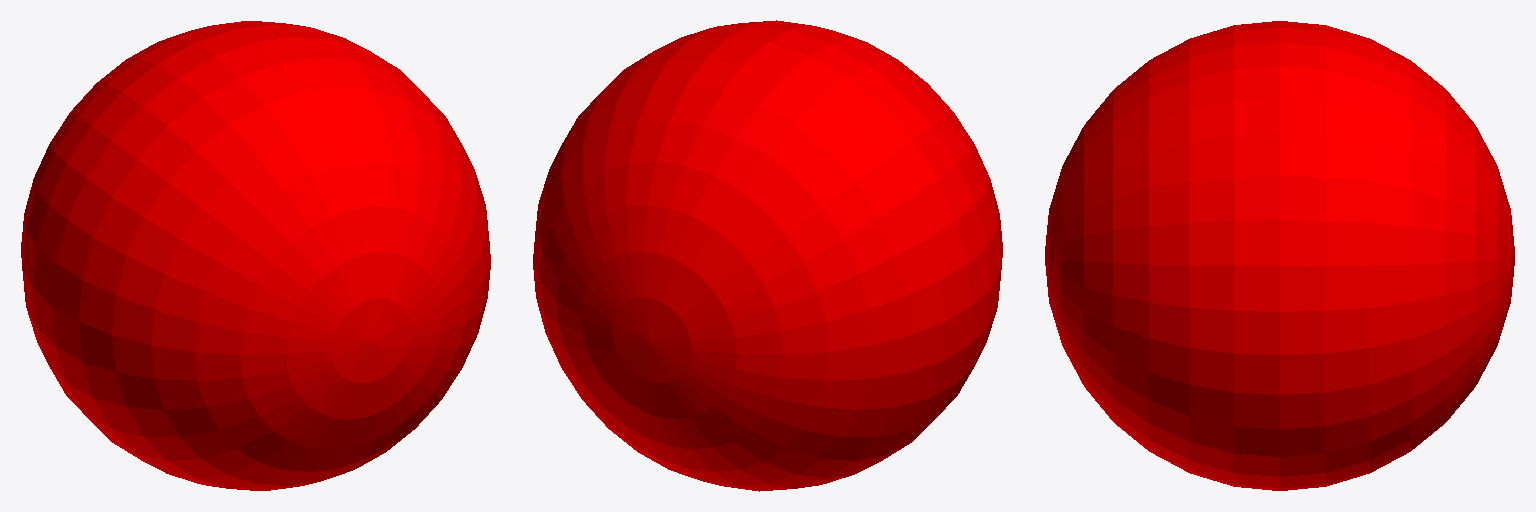
URDF robot description (k-bot_sim):
<?xml version="1.0" ?>
<robot name="k-bot_sim">
  <link name="floating_base_link">
    <visual name="floating_base_link_visual">
      <geometry name="floating_base_link_geometry">
        <sphere radius="0.01"/>
      </geometry>
      <material name="floating_base_link_material">
        <color rgba="1 0 0 1"/>
      </material>
      <origin xyz="0 0 0" rpy="1.57 0.00 3.14"/>
    </visual>
    <inertial name="floating_base_link_inertial">
      <mass value="0.001"/>
      <inertia ixx="0.000001" iyy="0.000001" izz="0.000002" ixy="0" ixz="0" iyz="0"/>
      <origin xyz="0 0 0" rpy="1.57 0.00 3.14"/>
    </inertial>
  </link>
  <joint name="floating_base_joint" type="fixed">
    <parent link="floating_base_link"/>
    <child link="body1_part"/>
    <origin xyz="0 0 0" rpy="1.57 0.00 3.14"/>
  </joint>
  <joint name="imu_link" type="fixed">
    <origin xyz="0.039989 -0.127910 0" rpy="-1.570796 0 0"/>
    <parent link="body1_part"/>
    <child link="imu"/>
  </joint>
  <joint name="left_shoulder_pitch_03" type="revolute">
    <origin xyz="-0.000011 0.018090 0.188500" rpy="3.141593 0 3.141593"/>
    <parent link="body1_part"/>
    <child link="shoulder"/>
    <limit effort="60" velocity="6.283" lower="0" upper="3.141593"/>
    <axis xyz="0 0 1"/>
  </joint>
  <joint name="right_shoulder_pitch_03" type="revolute">
    <origin xyz="-0.000011 0.018090 -0.188500" rpy="0 0 -3.141593"/>
    <parent link="body1_part"/>
    <child link="shoulder_2"/>
    <limit effort="60" velocity="6.283" lower="-3.141593" upper="0"/>
    <axis xyz="0 0 1"/>
  </joint>
  <joint name="left_shoulder_roll_03" type="revolute">
    <origin xyz="0.023512 0.000056 -0.067500" rpy="1.570796 0 1.570796"/>
    <parent link="shoulder"/>
    <child link="arm1_top"/>
    <limit effort="60" velocity="6.283" lower="-3.630285" upper="0.479966"/>
    <axis xyz="0 0 -1"/>
  </joint>
  <joint name="right_shoulder_roll_03" type="revolute">
    <origin xyz="0.023512 -0.000056 -0.067500" rpy="1.570796 0 -1.570796"/>
    <parent link="shoulder_2"/>
    <child link="arm1_top_2"/>
    <limit effort="60" velocity="6.283" lower="-0.479966" upper="3.630285"/>
    <axis xyz="0 0 1"/>
  </joint>
  <joint name="left_hip_pitch_04" type="revolute">
    <origin xyz="-0.000011 -0.432010 0.088700" rpy="-3.141593 0 -3.141593"/>
    <parent link="body1_part"/>
    <child link="leg0_shell"/>
    <limit effort="120" velocity="6.283" lower="-1.570796" upper="1.570796"/>
    <axis xyz="0 0 1"/>
  </joint>
  <joint name="right_hip_pitch_04" type="revolute">
    <origin xyz="-0.000011 -0.432010 -0.089200" rpy="0 0 -3.141593"/>
    <parent link="body1_part"/>
    <child link="leg0_shell_2"/>
    <limit effort="120" velocity="6.283" lower="-1.570796" upper="1.570796"/>
    <axis xyz="0 0 1"/>
  </joint>
  <joint name="left_shoulder_yaw_02" type="revolute">
    <origin xyz="-0.140500 0 -0.023500" rpy="-1.570796 0 -1.570796"/>
    <parent link="arm1_top"/>
    <child link="arm2_shell"/>
    <limit effort="17" velocity="12.566" lower="-1.570796" upper="1.570796"/>
    <axis xyz="0 0 1"/>
  </joint>
  <joint name="right_shoulder_yaw_02" type="revolute">
    <origin xyz="-0.140500 0 0.022500" rpy="-3.141593 1.570796 0"/>
    <parent link="arm1_top_2"/>
    <child link="arm2_shell_2"/>
    <limit effort="17" velocity="12.566" lower="-1.570796" upper="1.570796"/>
    <axis xyz="0 0 -1"/>
  </joint>
  <joint name="left_hip_roll_03" type="revolute">
    <origin xyz="0.027500 0 -0.069500" rpy="-1.570796 0 1.570796"/>
    <parent link="leg0_shell"/>
    <child link="leg1_shell"/>
    <limit effort="60" velocity="6.283" lower="-3.185226" upper="0.349066"/>
    <axis xyz="0 0 1"/>
  </joint>
  <joint name="right_hip_roll_03" type="revolute">
    <origin xyz="0.027500 0 -0.069000" rpy="1.570796 0 -1.570796"/>
    <parent link="leg0_shell_2"/>
    <child link="leg1_shell3"/>
    <limit effort="60" velocity="6.283" lower="-0.349066" upper="3.185226"/>
    <axis xyz="0 0 1"/>
  </joint>
  <joint name="left_elbow_02" type="revolute">
    <origin xyz="-0.027000 0 -0.098000" rpy="-3.141593 -1.570796 0"/>
    <parent link="arm2_shell"/>
    <child link="arm3_shell"/>
    <limit effort="17" velocity="12.566" lower="-2.530727" upper="0"/>
    <axis xyz="0 0 1"/>
  </joint>
  <joint name="right_elbow_02" type="revolute">
    <origin xyz="0 -0.027000 0.097500" rpy="-1.570796 1.570796 0"/>
    <parent link="arm2_shell_2"/>
    <child link="arm3_shell2"/>
    <limit effort="17" velocity="12.566" lower="0" upper="2.530727"/>
    <axis xyz="0 0 1"/>
  </joint>
  <joint name="left_hip_yaw_03" type="revolute">
    <origin xyz="-0.157500 0.000120 0.027500" rpy="0 1.570796 0"/>
    <parent link="leg1_shell"/>
    <child link="leg2_shell"/>
    <limit effort="60" velocity="6.283" lower="-1.570796" upper="1.570796"/>
    <axis xyz="0 0 1"/>
  </joint>
  <joint name="right_hip_yaw_03" type="revolute">
    <origin xyz="-0.157500 -0.000120 0.027500" rpy="-3.141593 -1.570796 0"/>
    <parent link="leg1_shell3"/>
    <child link="leg2_shell_2"/>
    <limit effort="60" velocity="6.283" lower="-1.570796" upper="1.570796"/>
    <axis xyz="0 0 1"/>
  </joint>
  <joint name="left_wrist_02" type="revolute">
    <origin xyz="-0.182500 0 0.021500" rpy="-1.570796 0 -1.570796"/>
    <parent link="arm3_shell"/>
    <child link="hand_shell"/>
    <limit effort="17" velocity="12.566" lower="-3.141593" upper="3.141593"/>
    <axis xyz="0 0 1"/>
  </joint>
  <joint name="right_wrist_02" type="revolute">
    <origin xyz="-0.182500 0 0.021500" rpy="1.570796 0 1.570796"/>
    <parent link="arm3_shell2"/>
    <child link="hand_shell_2"/>
    <limit effort="17" velocity="12.566" lower="-3.141593" upper="3.141593"/>
    <axis xyz="0 0 1"/>
  </joint>
  <joint name="left_knee_04" type="revolute">
    <origin xyz="0 -0.027000 -0.142500" rpy="1.570796 0 0"/>
    <parent link="leg2_shell"/>
    <child link="leg3_shell1"/>
    <limit effort="120" velocity="6.283" lower="0" upper="2.094395"/>
    <axis xyz="0 0 -1"/>
  </joint>
  <joint name="right_knee_04" type="revolute">
    <origin xyz="0 -0.027000 -0.142500" rpy="1.570796 0 0"/>
    <parent link="leg2_shell_2"/>
    <child link="leg3_shell11"/>
    <limit effort="120" velocity="6.283" lower="-2.094395" upper="0"/>
    <axis xyz="0 0 -1"/>
  </joint>
  <joint name="right_ankle_02" type="revolute">
    <origin xyz="0 -0.300000 -0.035500" rpy="3.141593 0 3.141593"/>
    <parent link="leg3_shell11"/>
    <child link="foot3"/>
    <limit effort="17" velocity="12.566" lower="-0.698132" upper="0.698132"/>
    <axis xyz="0 0 1.0"/>
  </joint>
  <joint name="left_ankle_02" type="revolute">
    <origin xyz="0 -0.300000 0.009500" rpy="0 0 0"/>
    <parent link="leg3_shell1"/>
    <child link="foot1"/>
    <limit effort="17" velocity="12.566" lower="-0.698132" upper="0.698132"/>
    <axis xyz="0 0 -1"/>
  </joint>
  <link name="body1_part">
    <visual name="body1_part_visual">
      <origin xyz="0 0 0" rpy="0 0 0"/>
      <geometry name="body1_part_geometry">
        <mesh filename="meshes/body1_part.stl"/>
      </geometry>
      <material name="body1_part_material">
        <color rgba="1 1 1 1"/>
      </material>
    </visual>
    <inertial name="body1_part_inertial">
      <mass value="9.415838"/>
      <inertia ixx="0.406102" iyy="0.096732" izz="0.321504" ixy="0.001018" ixz="0.000014" iyz="-0.000180"/>
      <origin xyz="-0.000153 -0.214129 -0.000094" rpy="0 0 0"/>
    </inertial>
  </link>
  <link name="imu">
    <visual name="imu_visual">
      <origin xyz="0 0 0" rpy="0 0 0"/>
      <geometry name="imu_geometry">
        <mesh filename="meshes/imu.stl"/>
      </geometry>
      <material name="imu_material">
        <color rgba="0.615686 0.811765 0.929412 1"/>
      </material>
    </visual>
    <inertial name="imu_inertial">
      <mass value="0.010000"/>
      <inertia ixx="0.000001" iyy="0.000001" izz="0.000002" ixy="0" ixz="0" iyz="0"/>
      <origin xyz="-0.007500 0 0.006000" rpy="0 0 0"/>
    </inertial>
  </link>
  <link name="shoulder">
    <visual name="shoulder_visual">
      <origin xyz="0 0 0" rpy="0 0 0"/>
      <geometry name="shoulder_geometry">
        <mesh filename="meshes/shoulder.stl"/>
      </geometry>
      <material name="shoulder_material">
        <color rgba="1 1 1 1"/>
      </material>
    </visual>
    <inertial name="shoulder_inertial">
      <mass value="1.107356"/>
      <inertia ixx="0.001481" iyy="0.001039" izz="0.000986" ixy="0" ixz="-0.000003" iyz="0"/>
      <origin xyz="-0.002144 0.000055 -0.066483" rpy="0 0 0"/>
    </inertial>
  </link>
  <link name="shoulder_2">
    <visual name="shoulder_visual_2">
      <origin xyz="0 0 0" rpy="0 0 0"/>
      <geometry name="shoulder_geometry_2">
        <mesh filename="meshes/shoulder_2.stl"/>
      </geometry>
      <material name="shoulder_material_2">
        <color rgba="1 1 1 1"/>
      </material>
    </visual>
    <inertial name="shoulder_inertial_2">
      <mass value="1.107354"/>
      <inertia ixx="0.001481" iyy="0.001039" izz="0.000986" ixy="0" ixz="-0.000003" iyz="0"/>
      <origin xyz="-0.002144 -0.000055 -0.066483" rpy="0 0 0"/>
    </inertial>
  </link>
  <link name="arm1_top">
    <visual name="arm1_top_visual">
      <origin xyz="0 0 0" rpy="0 0 0"/>
      <geometry name="arm1_top_geometry">
        <mesh filename="meshes/arm1_top.stl"/>
      </geometry>
      <material name="arm1_top_material">
        <color rgba="0.898039 0.917647 0.929412 1"/>
      </material>
    </visual>
    <inertial name="arm1_top_inertial">
      <mass value="0.572732"/>
      <inertia ixx="0.000453" iyy="0.001076" izz="0.001035" ixy="0" ixz="-0.000195" iyz="0"/>
      <origin xyz="-0.099486 -0.000001 -0.019082" rpy="0 0 0"/>
    </inertial>
  </link>
  <link name="arm1_top_2">
    <visual name="arm1_top_2_visual">
      <origin xyz="0 0 0" rpy="0 0 0"/>
      <geometry name="arm1_top_2_geometry">
        <mesh filename="meshes/arm1_top_2.stl"/>
      </geometry>
      <material name="arm1_top_2_material">
        <color rgba="0.898039 0.917647 0.929412 1"/>
      </material>
    </visual>
    <inertial name="arm1_top_2_inertial">
      <mass value="0.572732"/>
      <inertia ixx="0.000453" iyy="0.001076" izz="0.001035" ixy="0" ixz="0.000195" iyz="0"/>
      <origin xyz="-0.099486 -0.000001 0.018082" rpy="0 0 0"/>
    </inertial>
  </link>
  <link name="leg0_shell">
    <visual name="leg0_shell_visual">
      <origin xyz="0 0 0" rpy="0 0 0"/>
      <geometry name="leg0_shell_geometry">
        <mesh filename="meshes/leg0_shell.stl"/>
      </geometry>
      <material name="leg0_shell_material">
        <color rgba="0.898039 0.917647 0.929412 1"/>
      </material>
    </visual>
    <inertial name="leg0_shell_inertial">
      <mass value="1.323448"/>
      <inertia ixx="0.001886" iyy="0.001425" izz="0.001300" ixy="0" ixz="0.000007" iyz="0"/>
      <origin xyz="-0.003746 0 -0.068125" rpy="0 0 0"/>
    </inertial>
  </link>
  <link name="leg0_shell_2">
    <visual name="leg0_shell_visual_2">
      <origin xyz="0 0 0" rpy="0 0 0"/>
      <geometry name="leg0_shell_geometry_2">
        <mesh filename="meshes/leg0_shell_2.stl"/>
      </geometry>
      <material name="leg0_shell_material_2">
        <color rgba="0.898039 0.917647 0.929412 1"/>
      </material>
    </visual>
    <inertial name="leg0_shell_inertial_2">
      <mass value="1.323448"/>
      <inertia ixx="0.001886" iyy="0.001425" izz="0.001300" ixy="0" ixz="0.000007" iyz="0"/>
      <origin xyz="-0.003746 0 -0.067625" rpy="0 0 0"/>
    </inertial>
  </link>
  <link name="arm2_shell">
    <visual name="arm2_shell_visual">
      <origin xyz="0 0 0" rpy="0 0 0"/>
      <geometry name="arm2_shell_geometry">
        <mesh filename="meshes/arm2_shell.stl"/>
      </geometry>
      <material name="arm2_shell_material">
        <color rgba="0.898039 0.917647 0.929412 1"/>
      </material>
    </visual>
    <inertial name="arm2_shell_inertial">
      <mass value="0.510678"/>
      <inertia ixx="0.000675" iyy="0.000532" izz="0.000255" ixy="0" ixz="-0.000006" iyz="0"/>
      <origin xyz="-0.006339 0 -0.090482" rpy="0 0 0"/>
    </inertial>
  </link>
  <link name="arm2_shell_2">
    <visual name="arm2_shell_visual_2">
      <origin xyz="0 0 0" rpy="0 0 0"/>
      <geometry name="arm2_shell_geometry_2">
        <mesh filename="meshes/arm2_shell_2.stl"/>
      </geometry>
      <material name="arm2_shell_material_2">
        <color rgba="0.898039 0.917647 0.929412 1"/>
      </material>
    </visual>
    <inertial name="arm2_shell_inertial_2">
      <mass value="0.510678"/>
      <inertia ixx="0.000532" iyy="0.000675" izz="0.000255" ixy="0" ixz="0" iyz="0.000006"/>
      <origin xyz="0 -0.006339 0.089982" rpy="0 0 0"/>
    </inertial>
  </link>
  <link name="leg1_shell">
    <visual name="leg1_shell_visual">
      <origin xyz="0 0 0" rpy="0 0 0"/>
      <geometry name="leg1_shell_geometry">
        <mesh filename="meshes/leg1_shell.stl"/>
      </geometry>
      <material name="leg1_shell_material">
        <color rgba="0.898039 0.917647 0.929412 1"/>
      </material>
    </visual>
    <inertial name="leg1_shell_inertial">
      <mass value="1.264352"/>
      <inertia ixx="0.001481" iyy="0.002486" izz="0.002413" ixy="-0.000018" ixz="0.000290" iyz="-0.000002"/>
      <origin xyz="-0.112524 0.000529 0.025259" rpy="0 0 0"/>
    </inertial>
  </link>
  <link name="leg1_shell3">
    <visual name="leg1_shell3_visual">
      <origin xyz="0 0 0" rpy="0 0 0"/>
      <geometry name="leg1_shell3_geometry">
        <mesh filename="meshes/leg1_shell3.stl"/>
      </geometry>
      <material name="leg1_shell3_material">
        <color rgba="0.898039 0.917647 0.929412 1"/>
      </material>
    </visual>
    <inertial name="leg1_shell3_inertial">
      <mass value="1.264352"/>
      <inertia ixx="0.001481" iyy="0.002486" izz="0.002413" ixy="0.000018" ixz="0.000290" iyz="0.000002"/>
      <origin xyz="-0.112524 -0.000529 0.025259" rpy="0 0 0"/>
    </inertial>
  </link>
  <link name="arm3_shell">
    <visual name="arm3_shell_visual">
      <origin xyz="0 0 0" rpy="0 0 0"/>
      <geometry name="arm3_shell_geometry">
        <mesh filename="meshes/arm3_shell.stl"/>
      </geometry>
      <material name="arm3_shell_material">
        <color rgba="0.898039 0.917647 0.929412 1"/>
      </material>
    </visual>
    <inertial name="arm3_shell_inertial">
      <mass value="0.578536"/>
      <inertia ixx="0.000428" iyy="0.001354" izz="0.001332" ixy="0" ixz="0.000144" iyz="0"/>
      <origin xyz="-0.140169 0 0.019433" rpy="0 0 0"/>
    </inertial>
  </link>
  <link name="arm3_shell2">
    <visual name="arm3_shell2_visual">
      <origin xyz="0 0 0" rpy="0 0 0"/>
      <geometry name="arm3_shell2_geometry">
        <mesh filename="meshes/arm3_shell2.stl"/>
      </geometry>
      <material name="arm3_shell2_material">
        <color rgba="0.898039 0.917647 0.929412 1"/>
      </material>
    </visual>
    <inertial name="arm3_shell2_inertial">
      <mass value="0.578536"/>
      <inertia ixx="0.000428" iyy="0.001354" izz="0.001332" ixy="0" ixz="0.000144" iyz="0"/>
      <origin xyz="-0.140169 0 0.019433" rpy="0 0 0"/>
    </inertial>
  </link>
  <link name="leg2_shell">
    <visual name="leg2_shell_visual">
      <origin xyz="0 0 0" rpy="0 0 0"/>
      <geometry name="leg2_shell_geometry">
        <mesh filename="meshes/leg2_shell.stl"/>
      </geometry>
      <material name="leg2_shell_material">
        <color rgba="0.898039 0.917647 0.929412 1"/>
      </material>
    </visual>
    <inertial name="leg2_shell_inertial">
      <mass value="1.820923"/>
      <inertia ixx="0.003118" iyy="0.004225" izz="0.002064" ixy="0" ixz="0" iyz="-0.000034"/>
      <origin xyz="0 0.000532 -0.137308" rpy="0 0 0"/>
    </inertial>
  </link>
  <link name="leg2_shell_2">
    <visual name="leg2_shell_visual_2">
      <origin xyz="0 0 0" rpy="0 0 0"/>
      <geometry name="leg2_shell_geometry_2">
        <mesh filename="meshes/leg2_shell_2.stl"/>
      </geometry>
      <material name="leg2_shell_material_2">
        <color rgba="0.898039 0.917647 0.929412 1"/>
      </material>
    </visual>
    <inertial name="leg2_shell_inertial_2">
      <mass value="1.820923"/>
      <inertia ixx="0.003118" iyy="0.004225" izz="0.002064" ixy="0" ixz="0" iyz="-0.000034"/>
      <origin xyz="0 0.000532 -0.137308" rpy="0 0 0"/>
    </inertial>
  </link>
  <link name="hand_shell">
    <visual name="hand_shell_visual">
      <origin xyz="0 0 0" rpy="0 0 0"/>
      <geometry name="hand_shell_geometry">
        <mesh filename="meshes/hand_shell.stl"/>
      </geometry>
      <material name="hand_shell_material">
        <color rgba="0.898039 0.917647 0.929412 1"/>
      </material>
    </visual>
    <inertial name="hand_shell_inertial">
      <mass value="0.793063"/>
      <inertia ixx="0.002034" iyy="0.002869" izz="0.001280" ixy="0" ixz="-0.000023" iyz="0.000004"/>
      <origin xyz="0.000709 0.000130 -0.074657" rpy="0 0 0"/>
    </inertial>
  </link>
  <link name="hand_shell_2">
    <visual name="hand_shell_visual_2">
      <origin xyz="0 0 0" rpy="0 0 0"/>
      <geometry name="hand_shell_geometry_2">
        <mesh filename="meshes/hand_shell_2.stl"/>
      </geometry>
      <material name="hand_shell_material_2">
        <color rgba="0.898039 0.917647 0.929412 1"/>
      </material>
    </visual>
    <inertial name="hand_shell_inertial_2">
      <mass value="0.793063"/>
      <inertia ixx="0.002034" iyy="0.002869" izz="0.001280" ixy="0" ixz="-0.000023" iyz="0.000004"/>
      <origin xyz="0.000709 0.000130 -0.074657" rpy="0 0 0"/>
    </inertial>
  </link>
  <link name="leg3_shell1">
    <visual name="leg3_shell1_visual">
      <origin xyz="0 0 0" rpy="0 0 0"/>
      <geometry name="leg3_shell1_geometry">
        <mesh filename="meshes/leg3_shell1.stl"/>
      </geometry>
      <material name="leg3_shell1_material">
        <color rgba="0.898039 0.917647 0.929412 1"/>
      </material>
    </visual>
    <inertial name="leg3_shell1_inertial">
      <mass value="1.109955"/>
      <inertia ixx="0.006740" iyy="0.001013" izz="0.006746" ixy="0.000062" ixz="-0.000017" iyz="0.000013"/>
      <origin xyz="0.001098 -0.131322 -0.023162" rpy="0 0 0"/>
    </inertial>
  </link>
  <link name="leg3_shell11">
    <visual name="leg3_shell11_visual">
      <origin xyz="0 0 0" rpy="0 0 0"/>
      <geometry name="leg3_shell11_geometry">
        <mesh filename="meshes/leg3_shell11.stl"/>
      </geometry>
      <material name="leg3_shell11_material">
        <color rgba="0.898039 0.917647 0.929412 1"/>
      </material>
    </visual>
    <inertial name="leg3_shell11_inertial">
      <mass value="1.109962"/>
      <inertia ixx="0.006740" iyy="0.001013" izz="0.006746" ixy="-0.000062" ixz="0.000017" iyz="0.000013"/>
      <origin xyz="-0.001098 -0.131322 -0.023162" rpy="0 0 0"/>
    </inertial>
  </link>
  <link name="foot3">
    <visual name="foot3_visual">
      <origin xyz="0 0 0" rpy="0 0 0"/>
      <geometry name="foot3_geometry">
        <mesh filename="meshes/foot3.stl"/>
      </geometry>
      <material name="foot3_material">
        <color rgba="0.898039 0.917647 0.929412 1"/>
      </material>
    </visual>
    <collision name="foot3.collision">
      <origin xyz="0 0 0" rpy="0 0 0"/>
      <geometry name="foot3_collision_geometry">
        <mesh filename="meshes/foot3.collision.stl"/>
      </geometry>
    </collision>
    <inertial name="foot3_inertial">
      <mass value="0.582091"/>
      <inertia ixx="0.000284" iyy="0.002188" izz="0.002024" ixy="0.000040" ixz="0.000033" iyz="-0.000004"/>
      <origin xyz="0.021350 -0.019419 -0.023724" rpy="0 0 0"/>
    </inertial>
  </link>
  <link name="foot1">
    <visual name="foot1_visual">
      <origin xyz="0 0 0" rpy="0 0 0"/>
      <geometry name="foot1_geometry">
        <mesh filename="meshes/foot1.stl"/>
      </geometry>
      <material name="foot1_material">
        <color rgba="0.898039 0.917647 0.929412 1"/>
      </material>
    </visual>
    <collision name="foot1.collision">
      <origin xyz="0 0 0" rpy="0 0 0"/>
      <geometry name="foot1_collision_geometry">
        <mesh filename="meshes/foot1.collision.stl"/>
      </geometry>
    </collision>
    <inertial name="foot1_inertial">
      <mass value="0.582091"/>
      <inertia ixx="0.000284" iyy="0.002188" izz="0.002024" ixy="0.000040" ixz="-0.000033" iyz="0.000004"/>
      <origin xyz="0.021350 -0.019419 -0.019276" rpy="0 0 0"/>
    </inertial>
  </link>
</robot>

--- Facts derived from the render (not from the file) ---
The picture shows the robot from 3 angles, left to right: view 1: azimuth 30°, elevation 25°; view 2: azimuth 150°, elevation 25°; view 3: azimuth 270°, elevation 25°; orthographic projection.
Robot: k-bot_sim — 23 links, 22 joints (20 revolute, 2 fixed); root link floating_base_link; default pose: all joints at 0.
Links seen in each view (by area): view 1: floating_base_link; view 2: floating_base_link; view 3: floating_base_link.
Boxes of the visible links, x1,y1,x2,y2 form: floating_base_link: (21, 21, 490, 490); floating_base_link: (533, 20, 1002, 491); floating_base_link: (1045, 21, 1514, 490).
Bounding box of the posed robot: 0.02 × 0.02 × 0.02 m (x, y, z).
0 mesh visuals loaded from 22 distinct referenced files (none loaded); not drawn: 17 (reference not matched to a file when rendering), 5 (file found but could not be loaded).